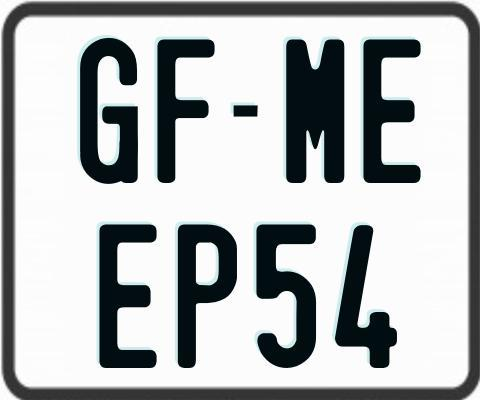4: (333, 223, 399, 372)
5: (253, 224, 314, 370)
E: (97, 224, 160, 368), (361, 36, 420, 186)
F: (156, 39, 218, 187)
G: (78, 35, 138, 183)
M: (286, 39, 345, 187)
P: (176, 221, 240, 369)
